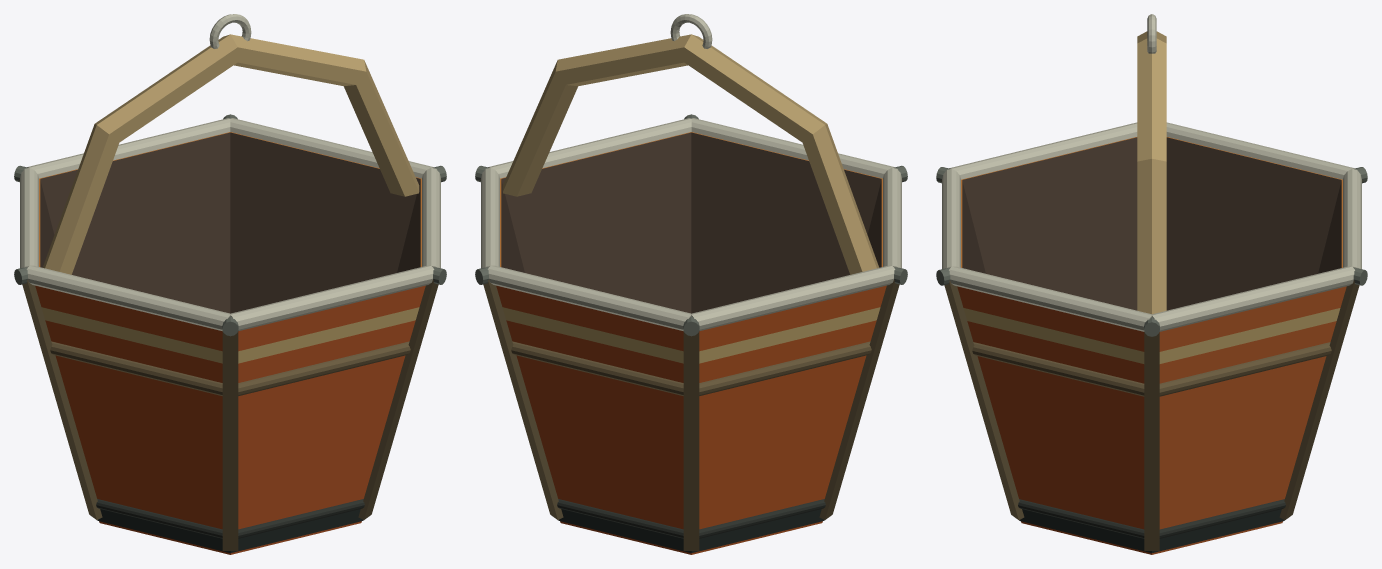
The model's file is Fire-Bucket.glb.
3 renders of one model, left to right at view 1: azimuth 30°, elevation 25°; view 2: azimuth 150°, elevation 25°; view 3: azimuth 270°, elevation 25°, orthographic.
Parts seen in each view (by area): view 1: SIM3D2 fire bucket; view 2: SIM3D2 fire bucket; view 3: SIM3D2 fire bucket.
Boxes of the visible parts, bbox=[...] form: SIM3D2 fire bucket: bbox=[14, 14, 446, 554]; SIM3D2 fire bucket: bbox=[475, 14, 907, 554]; SIM3D2 fire bucket: bbox=[936, 14, 1367, 554].
Size of the model in its own units: 1.39 by 1.52 by 1.23.
